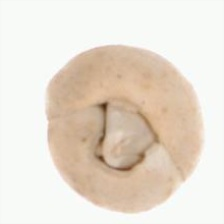L3: (87, 98, 162, 171)
L4: (44, 44, 203, 212)
